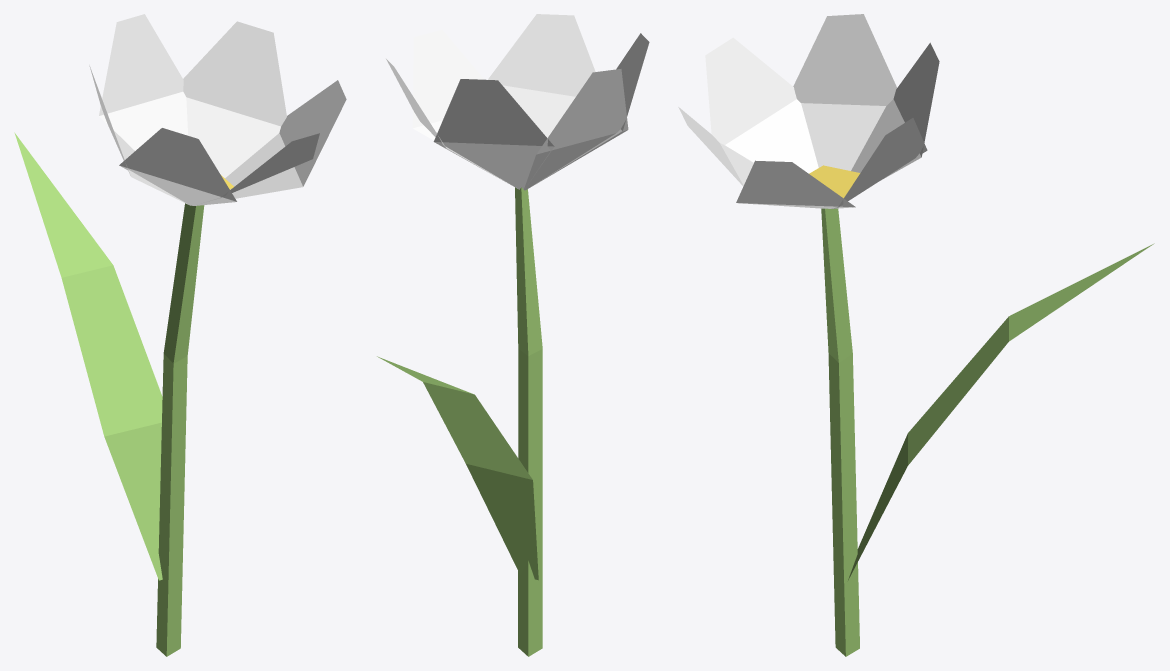
File: Flower_e_OneS_06.fbx
The picture shows the model from 3 angles, left to right: view 1: azimuth 30°, elevation 25°; view 2: azimuth 150°, elevation 25°; view 3: azimuth 270°, elevation 25°; orthographic projection.
Visible parts, largest first — view 1: Flower_e_OneS_06; view 2: Flower_e_OneS_06; view 3: Flower_e_OneS_06.
Boxes of the visible parts, bbox=[...] form: Flower_e_OneS_06: bbox=[14, 14, 346, 656]; Flower_e_OneS_06: bbox=[377, 14, 649, 656]; Flower_e_OneS_06: bbox=[678, 14, 1154, 656].
Size of the model in its own units: 0.1462 by 0.3748 by 0.2688.
